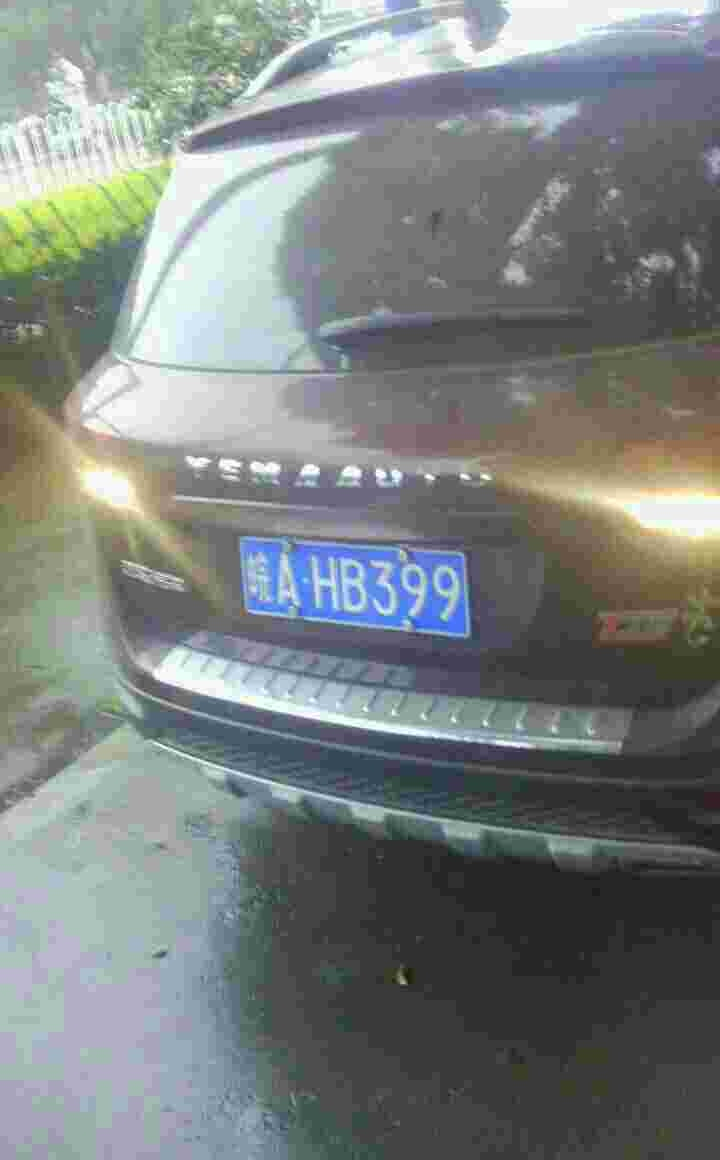plate: (233, 528, 475, 642)
